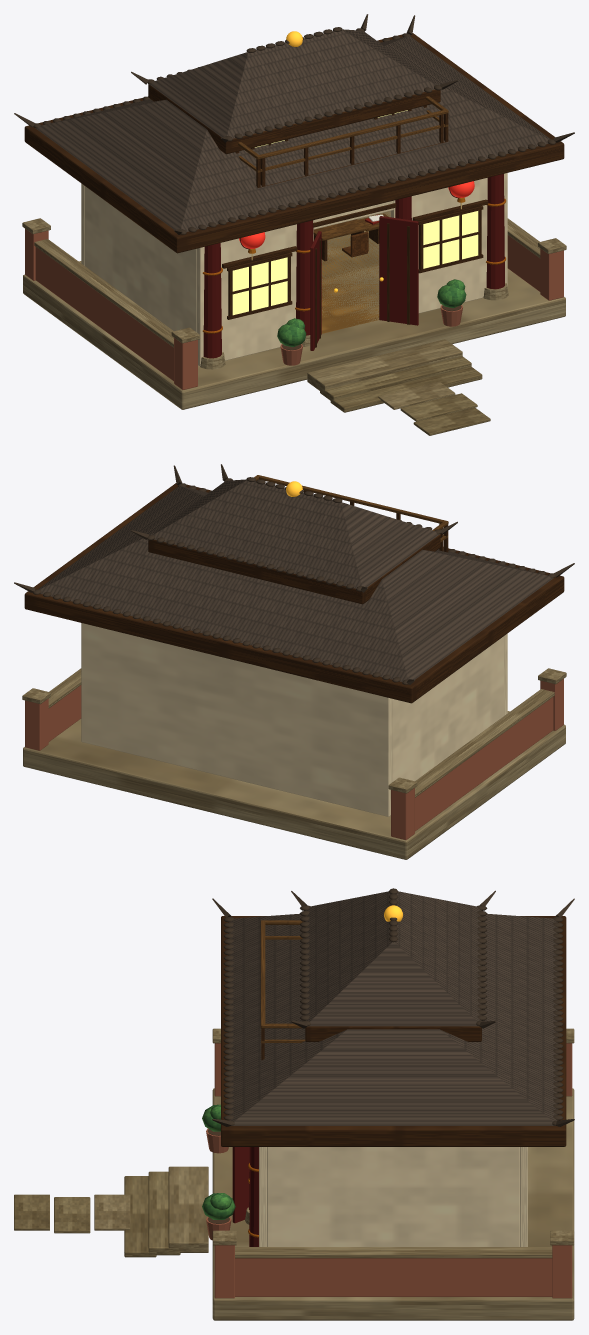
The model's file is school.glb.
The picture shows the model from 3 angles, top to bottom: view 1: azimuth 30°, elevation 25°; view 2: azimuth 150°, elevation 25°; view 3: azimuth 270°, elevation 25°; orthographic projection. The views are drawn at different scales.
Parts seen in each view (by area): view 1: roof1, platform, roof2, roof1_eave, wall_side, wall_front, brick_wall, wall_front.001, floor, door.001, roof2_eave, step1 (+20 smaller); view 2: wall_back, roof1, platform, roof2, roof1_eave, wall_side, brick_wall, roof2_eave, brick_cap, brick_wall.001, brick_post, brick_post.002 (+3 smaller); view 3: roof1, wall_side.001, roof2, platform, brick_wall.001, roof1_eave, brick_cap.001, step1, step3, step2, roof2_eave, path1 (+9 smaller).
Part boxes in pixels (x1,y1,x2,y2): roof1: [35, 36, 550, 231]; platform: [23, 211, 565, 409]; roof2: [149, 29, 436, 138]; roof1_eave: [24, 33, 564, 253]; wall_side: [85, 186, 196, 332]; wall_front: [197, 220, 313, 366]; brick_wall: [35, 247, 173, 381]; wall_front.001: [390, 173, 507, 313]; floor: [321, 212, 389, 333]; door.001: [379, 216, 418, 325]; roof2_eave: [148, 84, 440, 154]; step1: [307, 339, 462, 392]; wall_back: [81, 623, 391, 816]; roof1: [38, 486, 553, 682]; platform: [23, 711, 565, 859]; roof2: [152, 479, 439, 588]; roof1_eave: [24, 483, 564, 703]; wall_side: [392, 636, 503, 782]; brick_wall: [415, 697, 553, 831]; roof2_eave: [148, 534, 440, 604]; brick_cap: [415, 689, 554, 797]; brick_wall.001: [48, 685, 81, 741]; brick_post: [391, 788, 414, 839]; brick_post.002: [25, 698, 48, 750]; roof1: [229, 913, 557, 1125]; wall_side.001: [267, 1147, 519, 1246]; roof2: [305, 891, 481, 1026]; platform: [212, 1088, 574, 1320]; brick_wall.001: [235, 1258, 552, 1296]; roof1_eave: [221, 916, 566, 1146]; brick_cap.001: [235, 1247, 552, 1258]; step1: [168, 1166, 208, 1252]; step3: [124, 1176, 156, 1257]; step2: [148, 1171, 180, 1255]; roof2_eave: [305, 1026, 481, 1041]; path1: [54, 1197, 90, 1233].
Size of the model in its own units: 13.03 by 8.61 by 13.97.
Materials: 27 (14 with a texture image).
